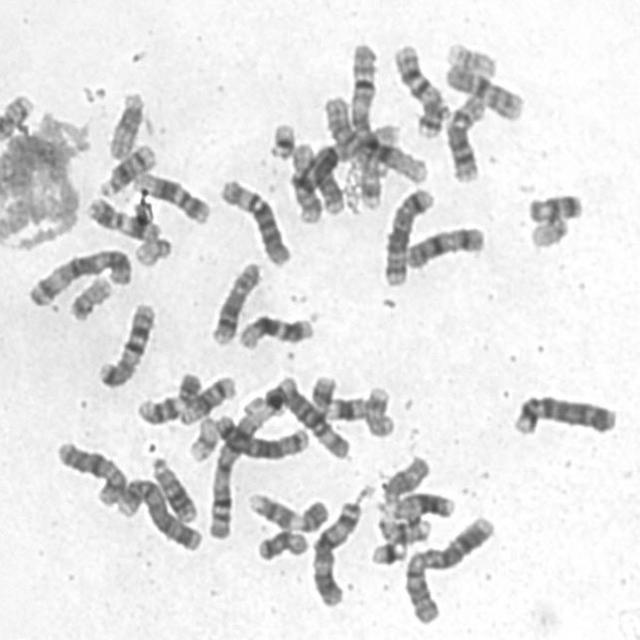A1: (204, 383, 290, 542), (342, 37, 430, 186)
A2: (399, 511, 497, 626), (313, 93, 354, 216)
A3: (23, 243, 135, 308), (306, 494, 364, 609)
B4: (112, 473, 205, 554), (507, 388, 618, 438)
B5: (377, 182, 437, 289), (210, 408, 310, 462)
C10: (439, 57, 525, 123), (287, 138, 323, 226)
C11: (81, 193, 162, 243), (307, 370, 371, 422)
C12: (126, 166, 212, 226), (233, 309, 317, 351)
C6: (215, 174, 293, 268), (273, 372, 351, 462)
C7: (92, 298, 158, 390), (389, 39, 449, 138)
C8: (206, 257, 264, 348), (441, 88, 488, 185)
C9: (131, 367, 202, 427), (242, 487, 330, 534)
D13: (146, 450, 197, 524), (384, 486, 456, 521)
D14: (93, 138, 158, 199), (176, 370, 238, 426), (333, 120, 402, 163)
D15: (103, 85, 146, 162), (375, 450, 432, 508)
E16: (372, 510, 433, 544)
E17: (357, 125, 402, 212), (360, 381, 397, 439)
E18: (252, 524, 311, 563), (523, 188, 584, 225)
F19: (442, 37, 498, 78), (184, 411, 220, 463)
F20: (65, 270, 114, 323)
G21: (264, 116, 298, 162), (365, 535, 409, 568)
G22: (524, 212, 570, 250), (130, 232, 174, 269), (0, 92, 33, 141)
X: (52, 436, 128, 508), (399, 220, 487, 272)
